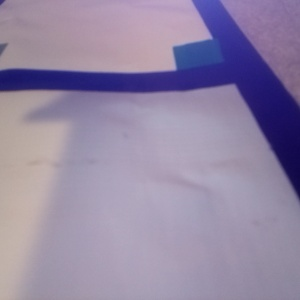top_right: (13, 33, 100, 72)
